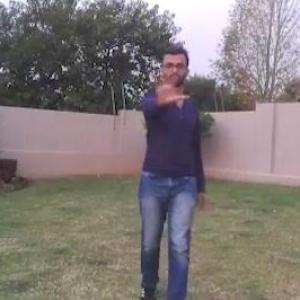follow_hand: (148, 62, 190, 108)
